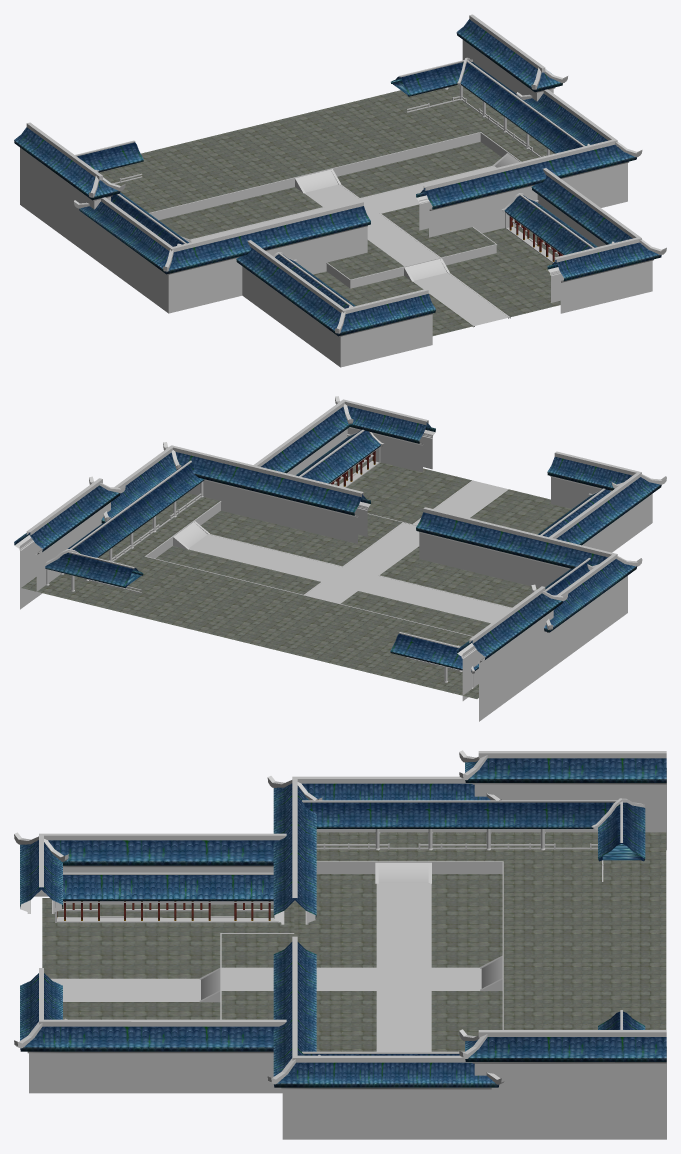
The model's file is environment_Building_luoxiaguan_001_e.FBX.
3 views of the same model, one above another, from view 1: azimuth 30°, elevation 25°; view 2: azimuth 150°, elevation 25°; view 3: azimuth 270°, elevation 25° (orthographic). The views are drawn at different scales.
Parts seen in each view (by area): view 1: environment_Building_luoxiaguan_001_e10, environment_Building_luoxiaguan_001_e03, environment_Building_luoxiaguan_001_e05, environment_Building_luoxiaguan_001_e04, environment_Building_luoxiaguan_001_e09, environment_Building_luoxiaguan_001_e02, environment_Building_luoxiaguan_001_e11, environment_Building_luoxiaguan_001_e01, environment_Building_luoxiaguan_001_e08; view 2: environment_Building_luoxiaguan_001_e10, environment_Building_luoxiaguan_001_e03, environment_Building_luoxiaguan_001_e05, environment_Building_luoxiaguan_001_e04, environment_Building_luoxiaguan_001_e09, environment_Building_luoxiaguan_001_e08, environment_Building_luoxiaguan_001_e01, environment_Building_luoxiaguan_001_e02, environment_Building_luoxiaguan_001_e06; view 3: environment_Building_luoxiaguan_001_e10, environment_Building_luoxiaguan_001_e03, environment_Building_luoxiaguan_001_e05, environment_Building_luoxiaguan_001_e04, environment_Building_luoxiaguan_001_e09, environment_Building_luoxiaguan_001_e02, environment_Building_luoxiaguan_001_e01, environment_Building_luoxiaguan_001_e08, environment_Building_luoxiaguan_001_e11, environment_Building_luoxiaguan_001_e07.
Part boxes in pixels (left/top/right/bottom): environment_Building_luoxiaguan_001_e10: left=99, top=85, right=560, bottom=335; environment_Building_luoxiaguan_001_e03: left=14, top=19, right=661, bottom=336; environment_Building_luoxiaguan_001_e05: left=20, top=40, right=652, bottom=367; environment_Building_luoxiaguan_001_e04: left=26, top=14, right=666, bottom=333; environment_Building_luoxiaguan_001_e09: left=190, top=166, right=508, bottom=325; environment_Building_luoxiaguan_001_e02: left=150, top=133, right=554, bottom=288; environment_Building_luoxiaguan_001_e11: left=183, top=154, right=519, bottom=280; environment_Building_luoxiaguan_001_e01: left=93, top=87, right=653, bottom=336; environment_Building_luoxiaguan_001_e08: left=113, top=96, right=563, bottom=281; environment_Building_luoxiaguan_001_e10: left=21, top=459, right=571, bottom=698; environment_Building_luoxiaguan_001_e03: left=14, top=406, right=661, bottom=671; environment_Building_luoxiaguan_001_e05: left=20, top=427, right=652, bottom=721; environment_Building_luoxiaguan_001_e04: left=26, top=396, right=666, bottom=673; environment_Building_luoxiaguan_001_e09: left=189, top=481, right=510, bottom=622; environment_Building_luoxiaguan_001_e08: left=15, top=429, right=484, bottom=670; environment_Building_luoxiaguan_001_e01: left=19, top=427, right=600, bottom=662; environment_Building_luoxiaguan_001_e02: left=147, top=461, right=379, bottom=558; environment_Building_luoxiaguan_001_e06: left=46, top=481, right=473, bottom=688; environment_Building_luoxiaguan_001_e10: left=42, top=832, right=666, bottom=1051; environment_Building_luoxiaguan_001_e03: left=20, top=758, right=666, bottom=1087; environment_Building_luoxiaguan_001_e05: left=29, top=768, right=666, bottom=1139; environment_Building_luoxiaguan_001_e04: left=14, top=750, right=666, bottom=1084; environment_Building_luoxiaguan_001_e09: left=51, top=883, right=481, bottom=1051; environment_Building_luoxiaguan_001_e02: left=57, top=862, right=502, bottom=1002; environment_Building_luoxiaguan_001_e01: left=27, top=783, right=666, bottom=1089; environment_Building_luoxiaguan_001_e08: left=21, top=843, right=603, bottom=922; environment_Building_luoxiaguan_001_e11: left=201, top=862, right=502, bottom=999; environment_Building_luoxiaguan_001_e07: left=57, top=901, right=270, bottom=920.
Size of the model in its own units: 5692 by 5199 by 907.
